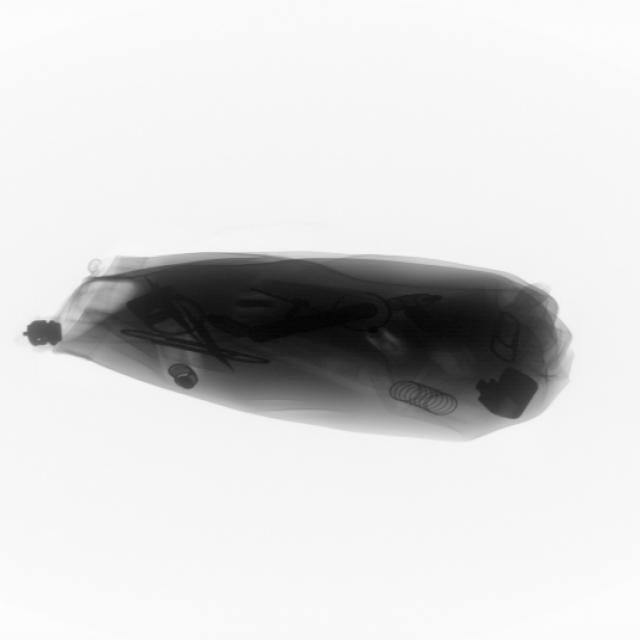GUN: (254, 304, 380, 327)
